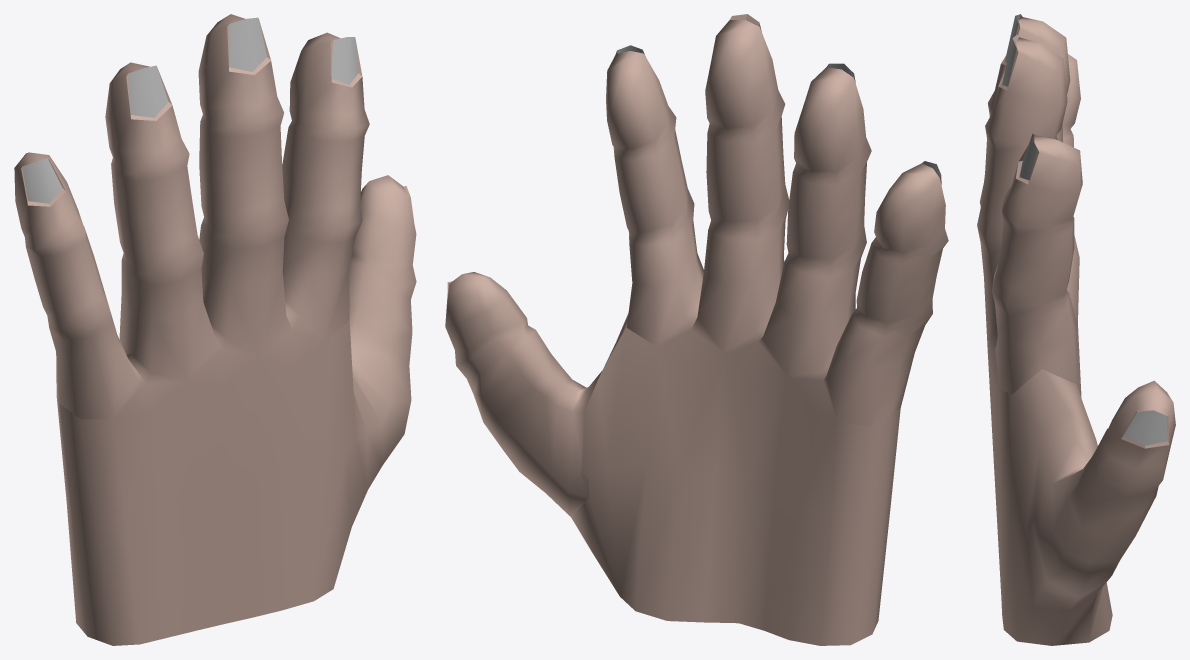
File: LeftHand.fbx
3 renders of one model, left to right at view 1: azimuth 30°, elevation 25°; view 2: azimuth 150°, elevation 25°; view 3: azimuth 270°, elevation 25°, orthographic. The views are drawn at different scales.
Parts seen in each view (by area): view 1: Hand8; view 2: Hand8; view 3: Hand8.
Part boxes in pixels (x1,y1,x2,y2): Hand8: [14, 14, 416, 645]; Hand8: [445, 14, 948, 645]; Hand8: [977, 14, 1175, 645].
Size of the model in its own units: 1.99 by 2.53 by 0.8094.
